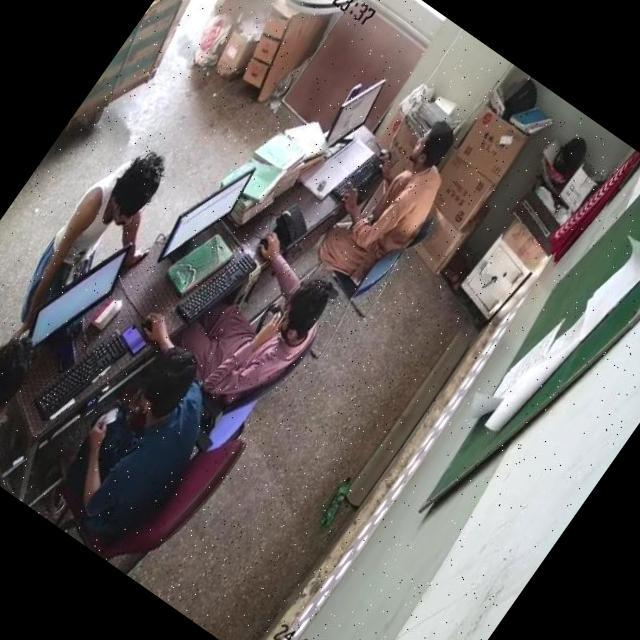person: (51, 338, 231, 546), (22, 142, 176, 328), (189, 242, 337, 404), (346, 124, 468, 271), (0, 320, 55, 470)
